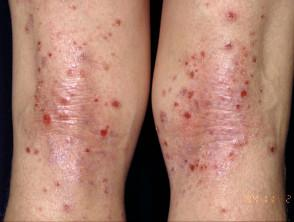Eczema: (32, 91, 63, 117), (183, 157, 223, 175), (56, 78, 82, 101), (157, 84, 175, 114), (173, 183, 204, 199), (249, 27, 264, 58), (191, 174, 222, 189), (212, 37, 242, 52), (192, 40, 214, 60), (78, 142, 99, 162), (100, 28, 119, 48), (97, 117, 112, 142), (177, 54, 194, 76), (222, 5, 241, 24), (212, 78, 231, 97), (184, 136, 209, 150), (224, 137, 253, 149), (216, 86, 231, 109), (77, 171, 97, 188), (214, 201, 235, 217), (68, 67, 90, 82), (57, 199, 81, 212), (77, 111, 94, 129), (72, 36, 91, 52), (33, 201, 53, 216), (21, 144, 44, 157), (75, 53, 96, 67), (109, 93, 123, 114), (160, 110, 171, 136), (21, 24, 40, 39), (37, 46, 56, 61), (26, 80, 54, 90), (182, 93, 201, 107), (98, 170, 108, 195), (41, 111, 52, 133), (48, 28, 70, 39), (204, 123, 220, 138), (267, 139, 277, 163), (36, 187, 54, 200), (223, 148, 241, 161), (238, 87, 250, 105), (199, 0, 213, 15), (68, 4, 84, 17), (89, 95, 105, 108), (167, 77, 183, 90), (242, 73, 256, 87), (113, 17, 128, 30), (157, 136, 172, 149), (179, 107, 191, 123), (192, 21, 208, 33), (99, 63, 113, 76), (244, 119, 258, 132), (254, 13, 272, 23), (260, 81, 266, 111), (68, 134, 78, 150), (104, 46, 116, 59), (168, 161, 178, 176), (205, 96, 212, 116), (99, 149, 115, 157), (51, 176, 60, 190), (35, 66, 46, 77), (17, 204, 28, 213), (235, 96, 239, 120), (104, 211, 114, 220), (121, 208, 123, 218)
